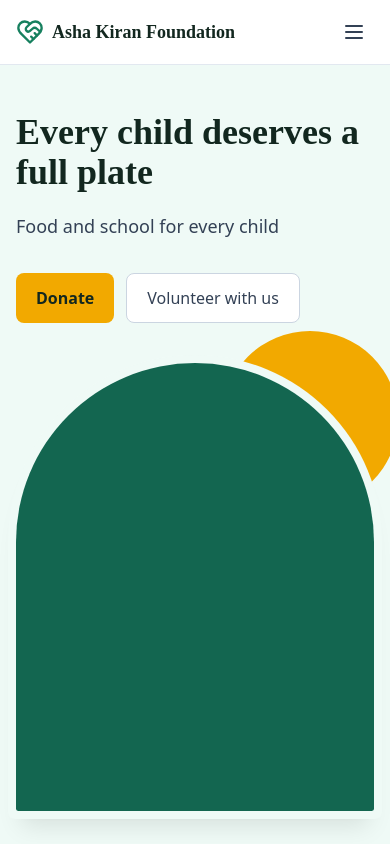
layout › opens and closes the phone menu
This screenshot has width=390, height=844.
Click the button named "open menu" at (354,32), box [334,12,374,52]
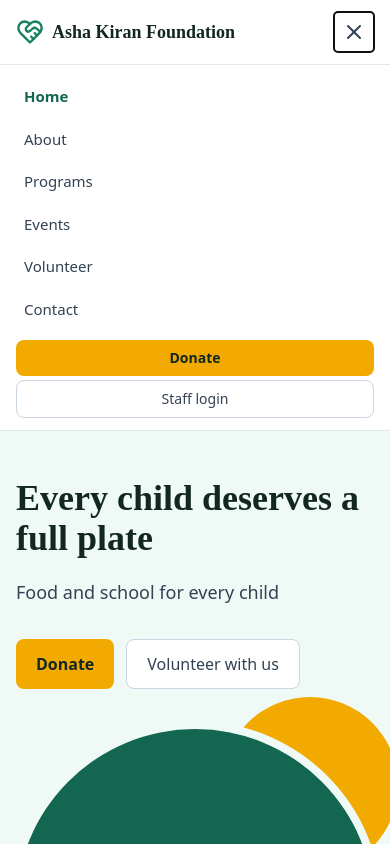
Expected: the button named "close menu" is expanded, [334,12,374,52]
Expected: the navigation bar with id "mobile-nav" is shown, [0,64,389,430]
